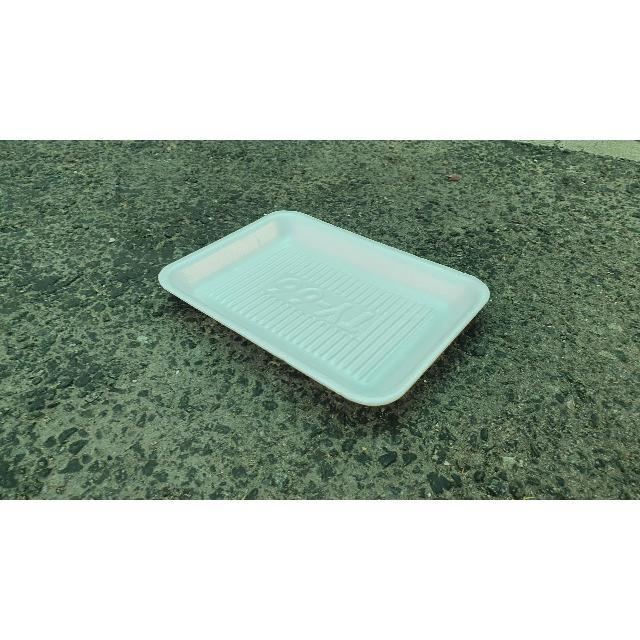Plastico descartable: (158, 211, 491, 409)
